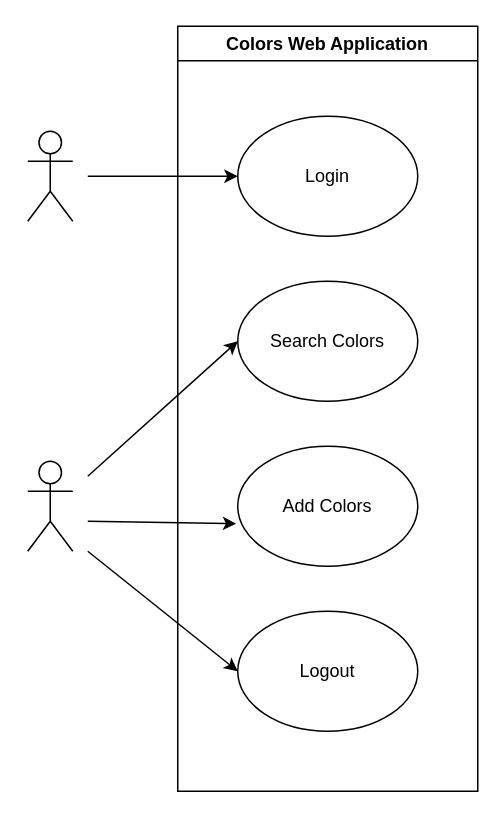
Some shapes in this 504 by 818 pixel diagram are drawn without their labels. Here are the shapes that lost their labels. From the top down, the box of each, then its label:
(26, 130, 73, 221): Guest
(26, 460, 73, 551): User
